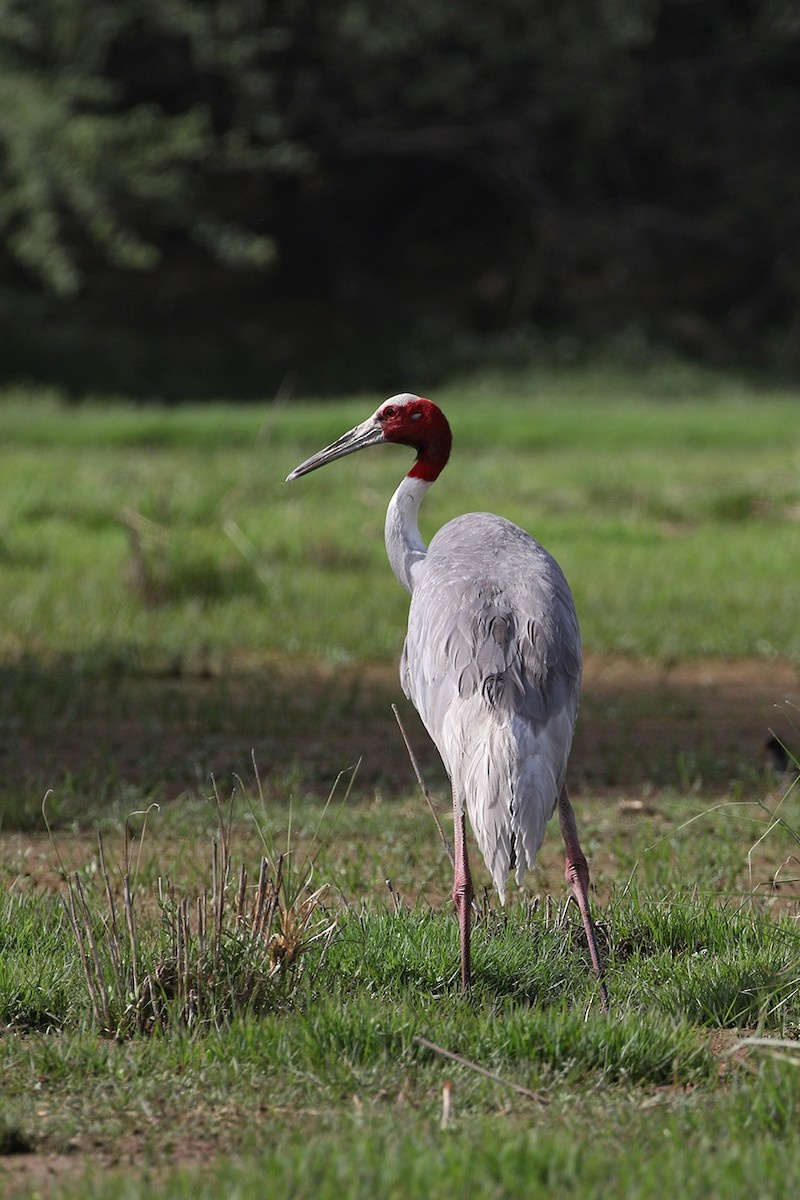crane: (285, 387, 626, 1017)
